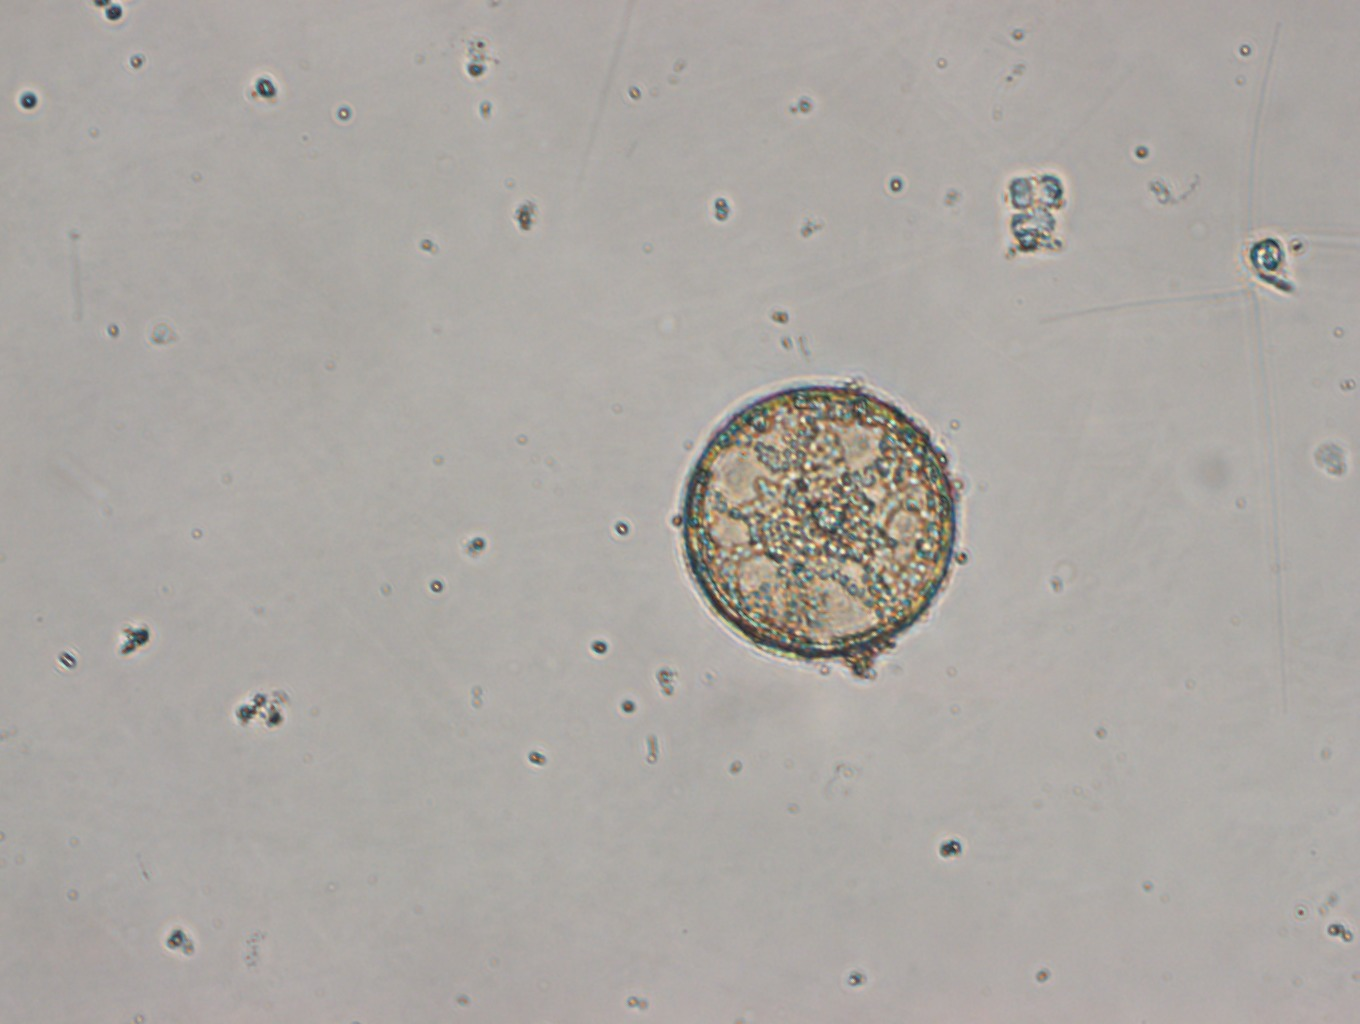chaetoceros: (1035, 31, 1360, 556)
coscinodiscus: (674, 373, 960, 662)
